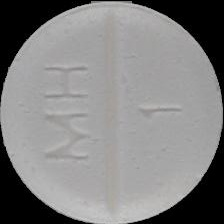0378-1901: (0, 0, 224, 224)
